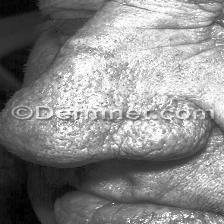Non-Cancerous Skin Condition: (64, 41, 194, 108)
